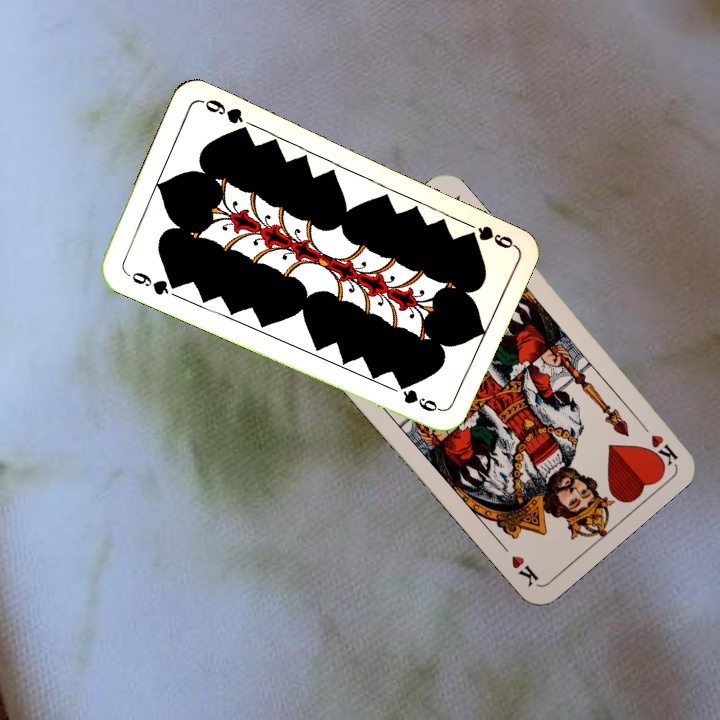G9: (460, 217, 516, 251), (122, 267, 181, 298)
HK: (634, 415, 680, 467)
